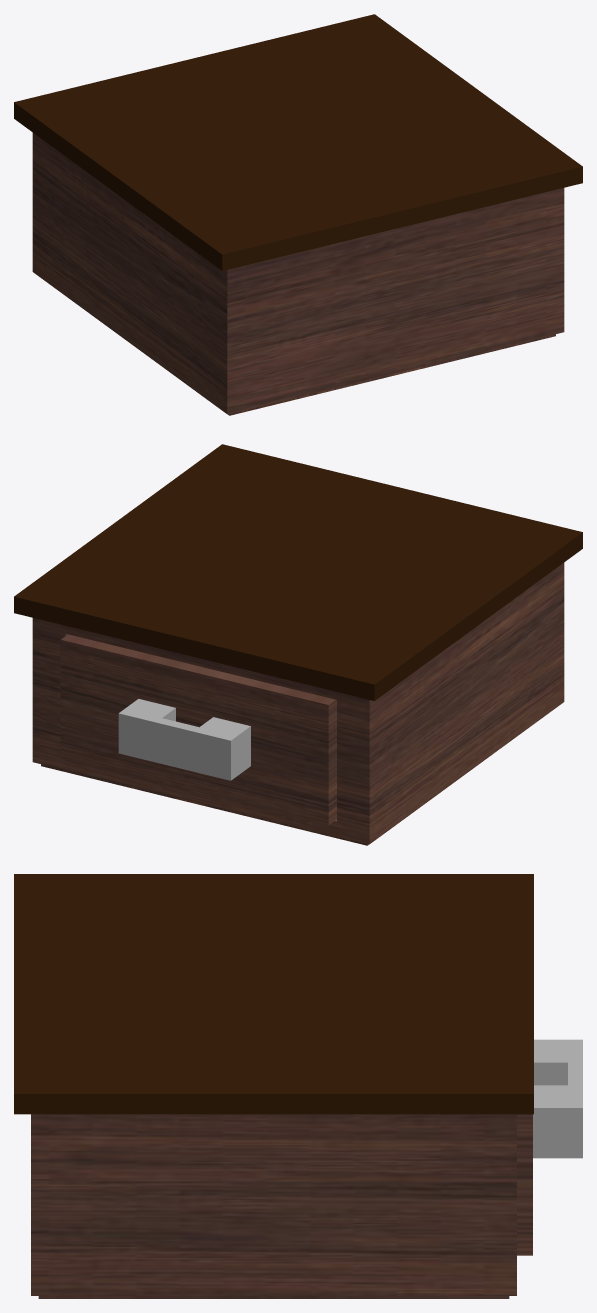
Rendered from CocinaConPersonaje.15blendv2 .fbx.
The picture shows the model from 3 angles, top to bottom: view 1: azimuth 30°, elevation 25°; view 2: azimuth 150°, elevation 25°; view 3: azimuth 270°, elevation 25°; orthographic projection. The views are drawn at different scales.
Visible parts, largest first — view 1: MuebleDefinitivo2.005; view 2: MuebleDefinitivo2.005; view 3: MuebleDefinitivo2.005.
Boxes of the visible parts, x1=… form: MuebleDefinitivo2.005: x1=14, y1=14, x2=582, y2=415; MuebleDefinitivo2.005: x1=14, y1=444, x2=582, y2=845; MuebleDefinitivo2.005: x1=14, y1=874, x2=582, y2=1298.
Bounding box in the file's own units: 375 × 171 × 410.
3 materials, 2 textured.
